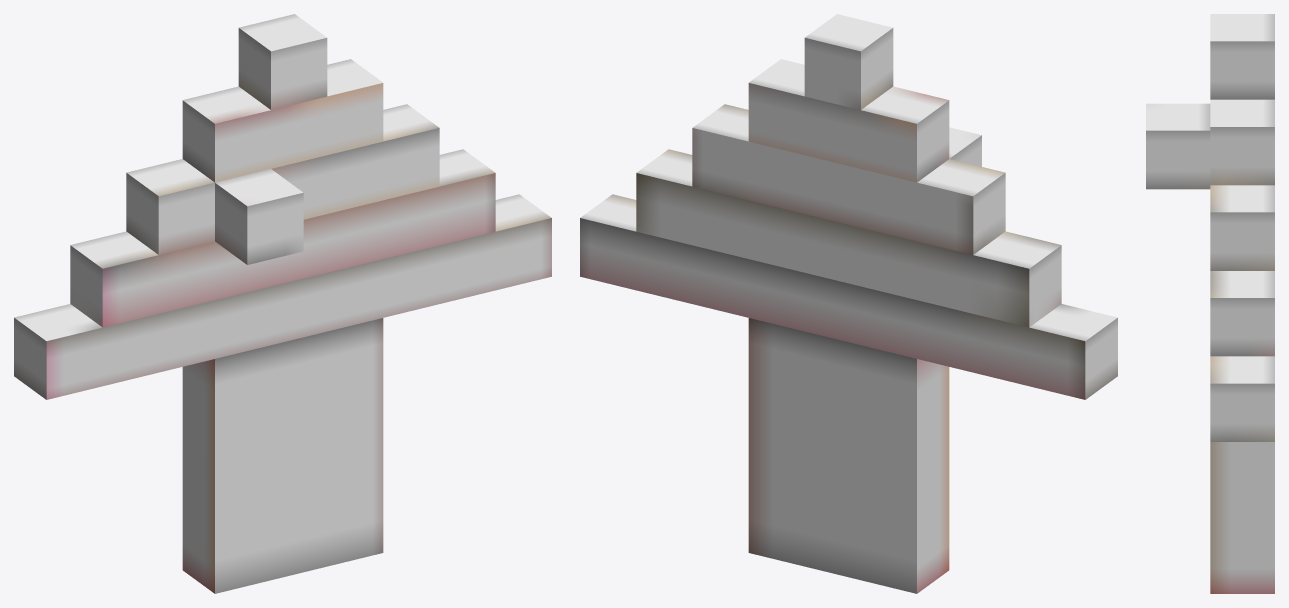
The model's file is Matrix_14.dae.
3 renders of one model, left to right at view 1: azimuth 30°, elevation 25°; view 2: azimuth 150°, elevation 25°; view 3: azimuth 270°, elevation 25°, orthographic.
Parts seen in each view (by area): view 1: Matrix_14; view 2: Matrix_14; view 3: Matrix_14.
Part boxes in pixels (x1,y1,x2,y2): Matrix_14: (14, 14, 551, 593); Matrix_14: (580, 14, 1117, 593); Matrix_14: (1146, 14, 1274, 593).
Size of the model in its own units: 9 by 9 by 2.
